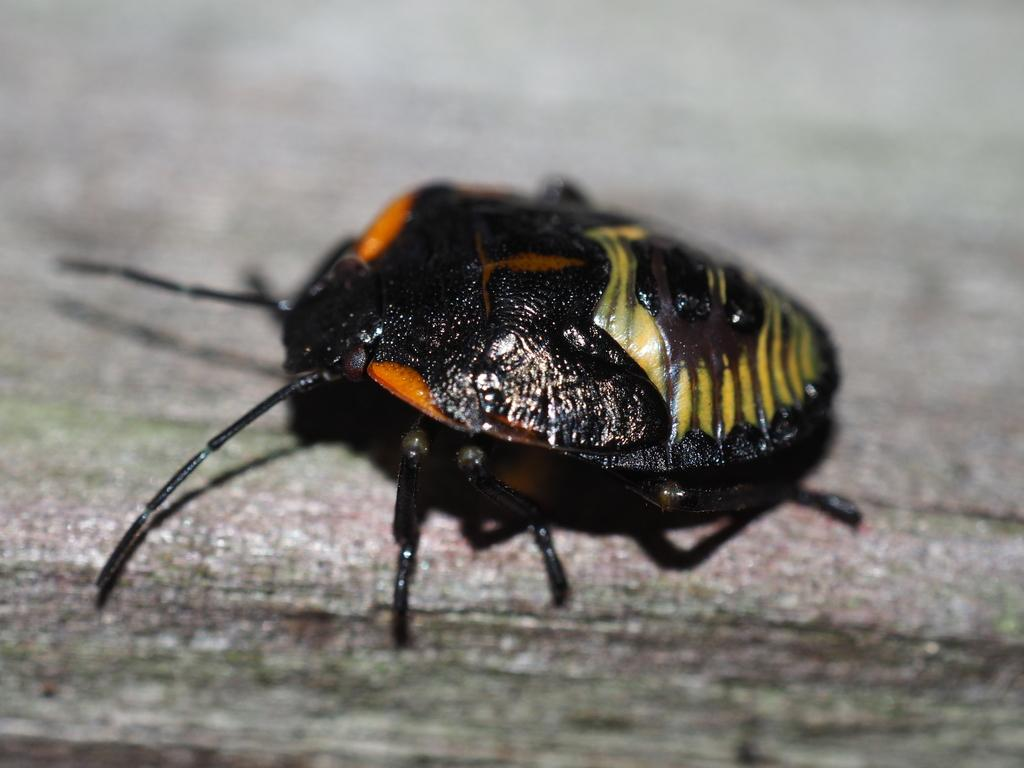stink_bugs: (2, 79, 988, 729)
